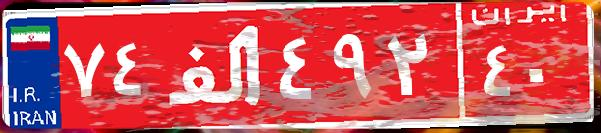0: (525, 38, 570, 115)
2: (385, 28, 445, 110)
4: (273, 28, 330, 110), (475, 38, 525, 113), (110, 28, 158, 105)
7: (57, 26, 110, 107)
9: (330, 28, 385, 110)
الف: (158, 15, 273, 115)
